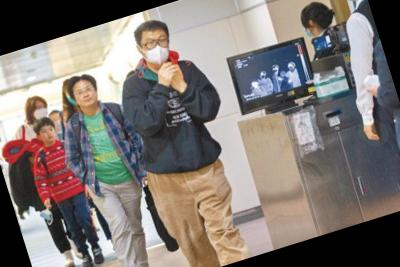with_mask: (139, 31, 176, 69), (29, 102, 51, 125)
without_mask: (70, 82, 103, 112), (38, 124, 60, 146)
